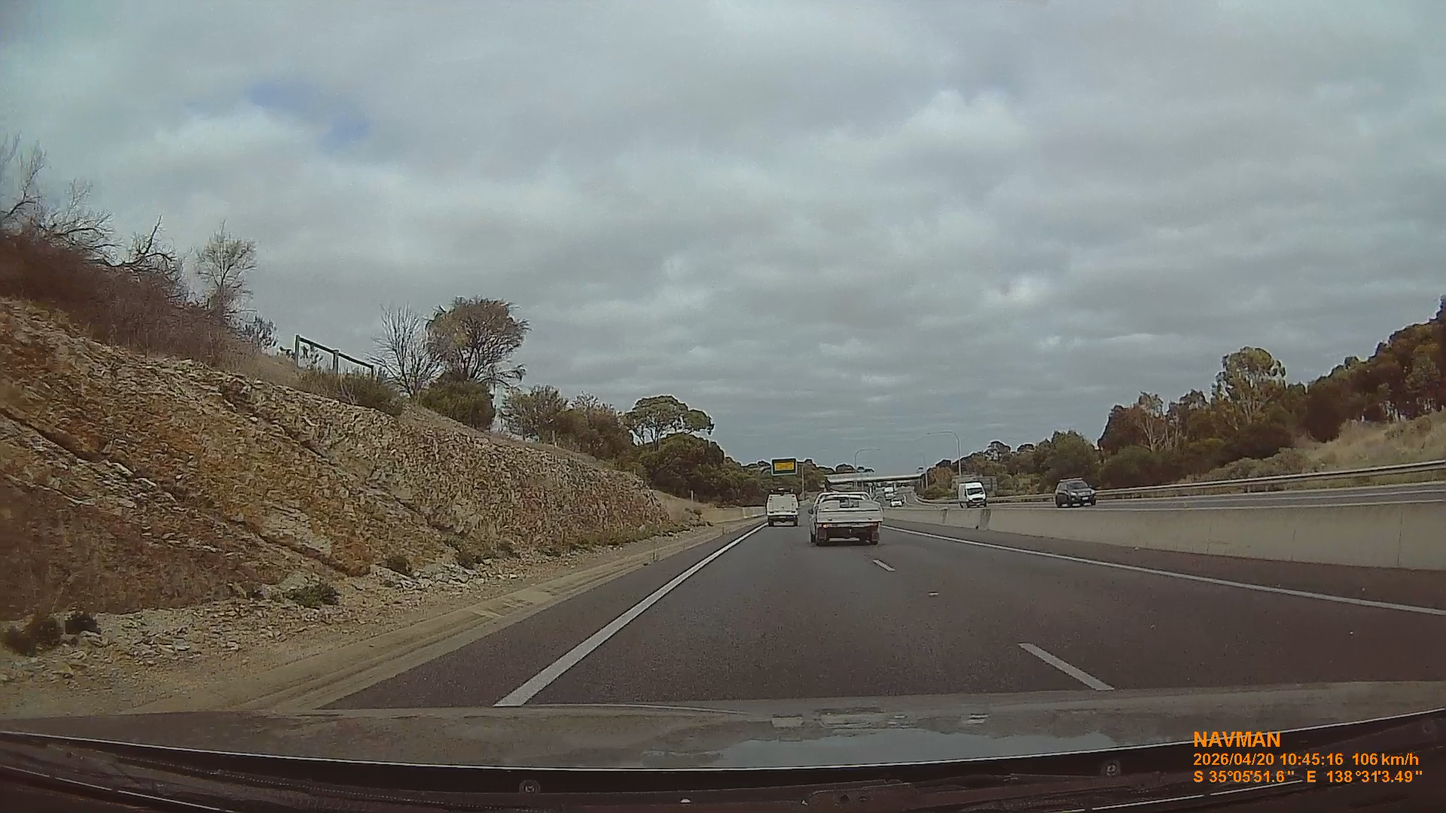road barriers: (990, 485, 1445, 571)
